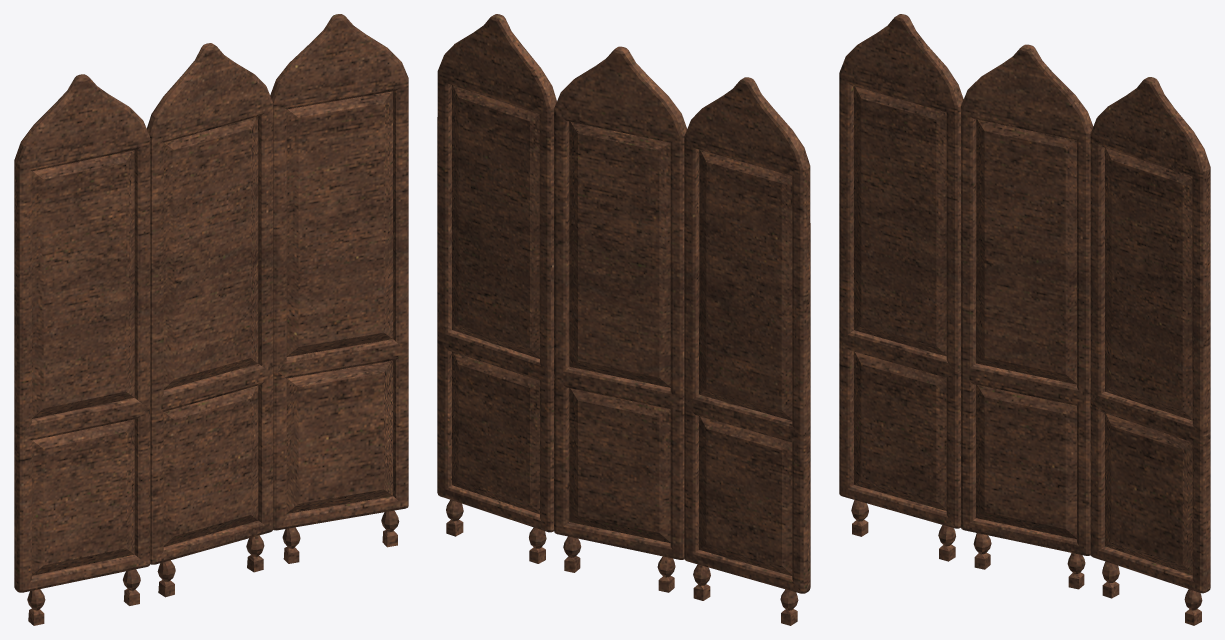
The model's file is separation-updated.fbx.
The picture shows the model from 3 angles, left to right: view 1: azimuth 30°, elevation 25°; view 2: azimuth 150°, elevation 25°; view 3: azimuth 330°, elevation 25°; orthographic projection.
Parts seen in each view (by area): view 1: Wood_Separation_1_1; view 2: Wood_Separation_1_1; view 3: Wood_Separation_1_1.
Part boxes in pixels (x1,y1,x2,y2): Wood_Separation_1_1: [14, 14, 408, 625]; Wood_Separation_1_1: [437, 14, 810, 625]; Wood_Separation_1_1: [839, 14, 1210, 625].
Size of the model in its own units: 15.66 by 21.03 by 1.22.
1 material, 1 textured.
